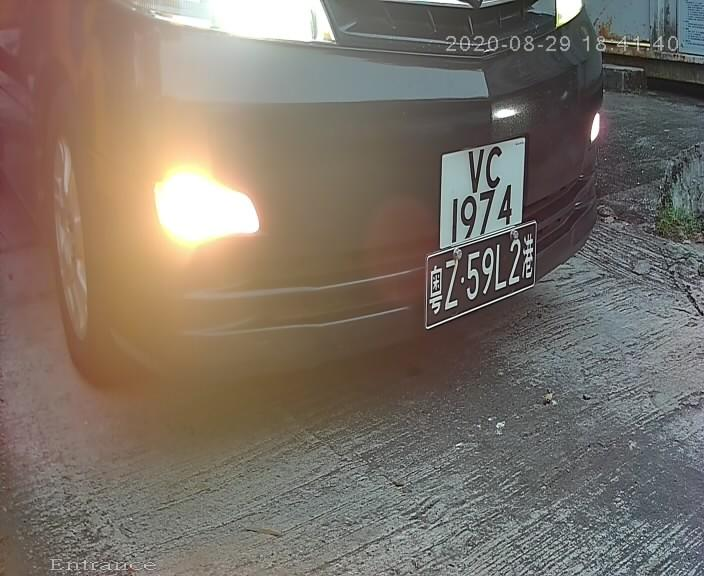License Plate: (425, 129, 535, 263)
